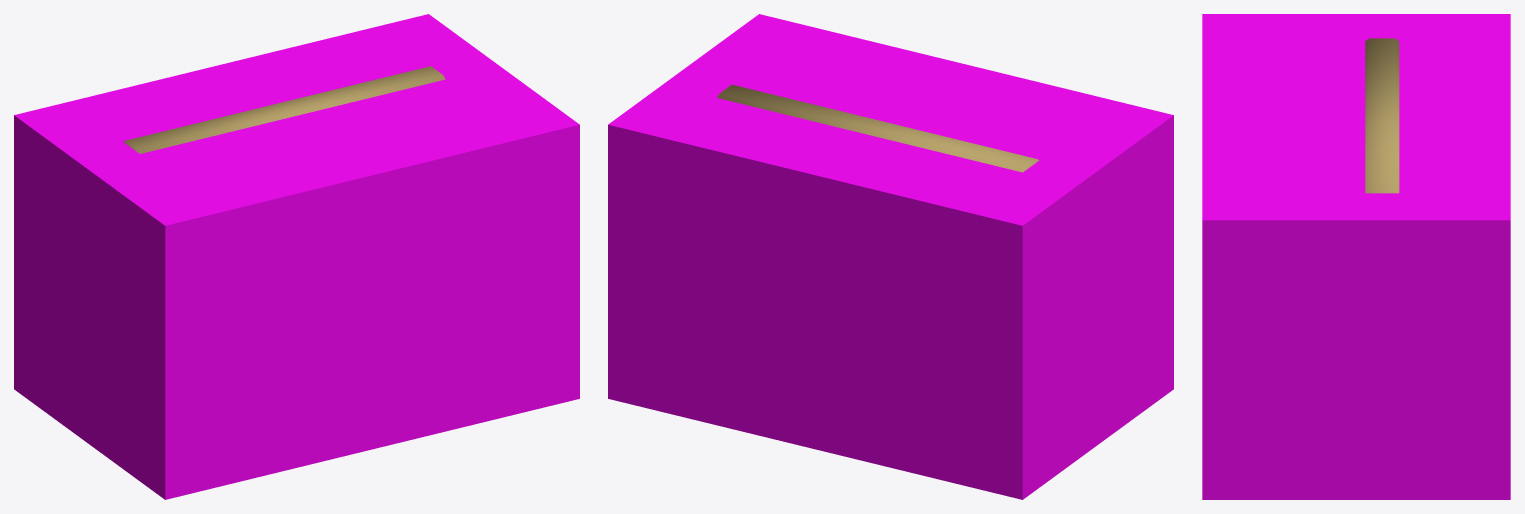
File: PRP_Manuscript_Box_A.glb
The picture shows the model from 3 angles, left to right: view 1: azimuth 30°, elevation 25°; view 2: azimuth 150°, elevation 25°; view 3: azimuth 270°, elevation 25°; orthographic projection.
Visible parts, largest first — view 1: COL_Stand, PRP_Manuscript_Box_A_Mesh; view 2: COL_Stand, PRP_Manuscript_Box_A_Mesh; view 3: COL_Stand, PRP_Manuscript_Box_A_Mesh.
Boxes of the visible parts, <box> form: COL_Stand: <box>14,14,579,499</box>; PRP_Manuscript_Box_A_Mesh: <box>123,66,445,153</box>; COL_Stand: <box>608,14,1173,499</box>; PRP_Manuscript_Box_A_Mesh: <box>717,84,1039,172</box>; COL_Stand: <box>1202,14,1510,499</box>; PRP_Manuscript_Box_A_Mesh: <box>1365,38,1399,193</box>.
Size of the model in its own units: 0.95 by 0.6061 by 0.6.
